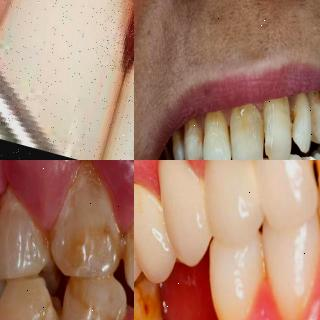maligned: (44, 261, 124, 320), (0, 262, 55, 320), (261, 87, 297, 160), (307, 88, 320, 149)
plaque: (106, 215, 134, 267), (300, 160, 320, 197)
stains: (208, 114, 232, 160), (286, 99, 300, 145), (233, 106, 253, 138), (190, 126, 206, 160)
